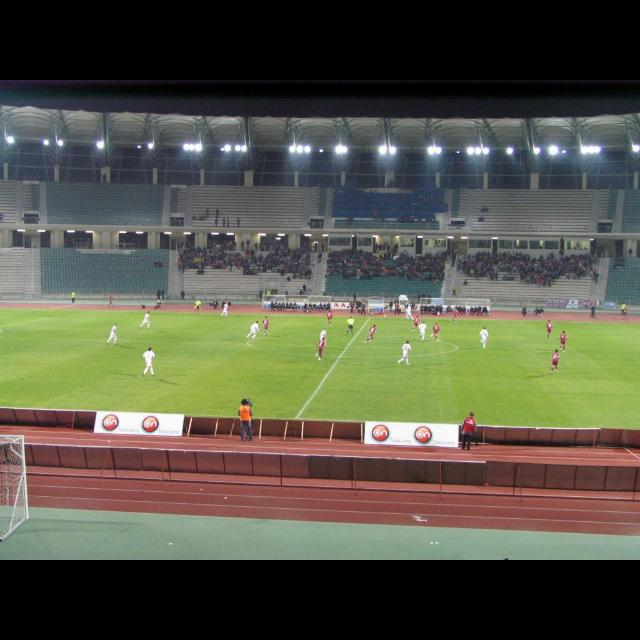Football: (381, 314, 383, 316)
